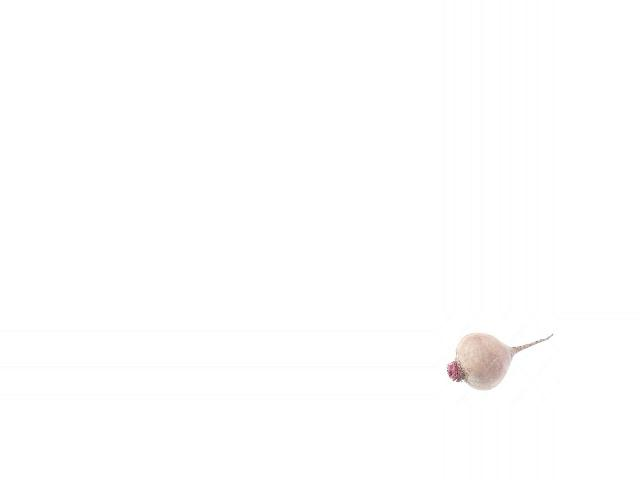beet: (447, 332, 553, 392)
